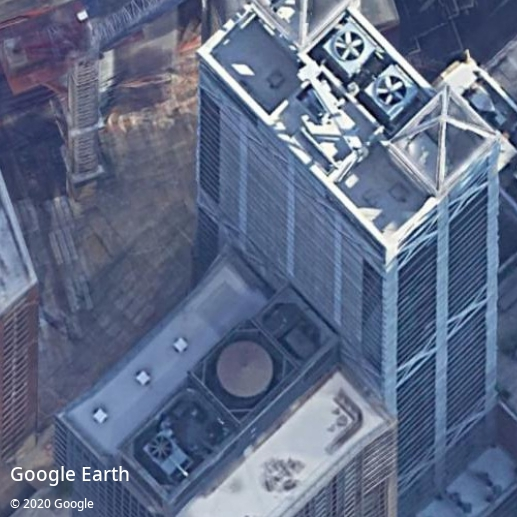Vent: (333, 30, 365, 62), (376, 75, 407, 105), (149, 436, 173, 460)
